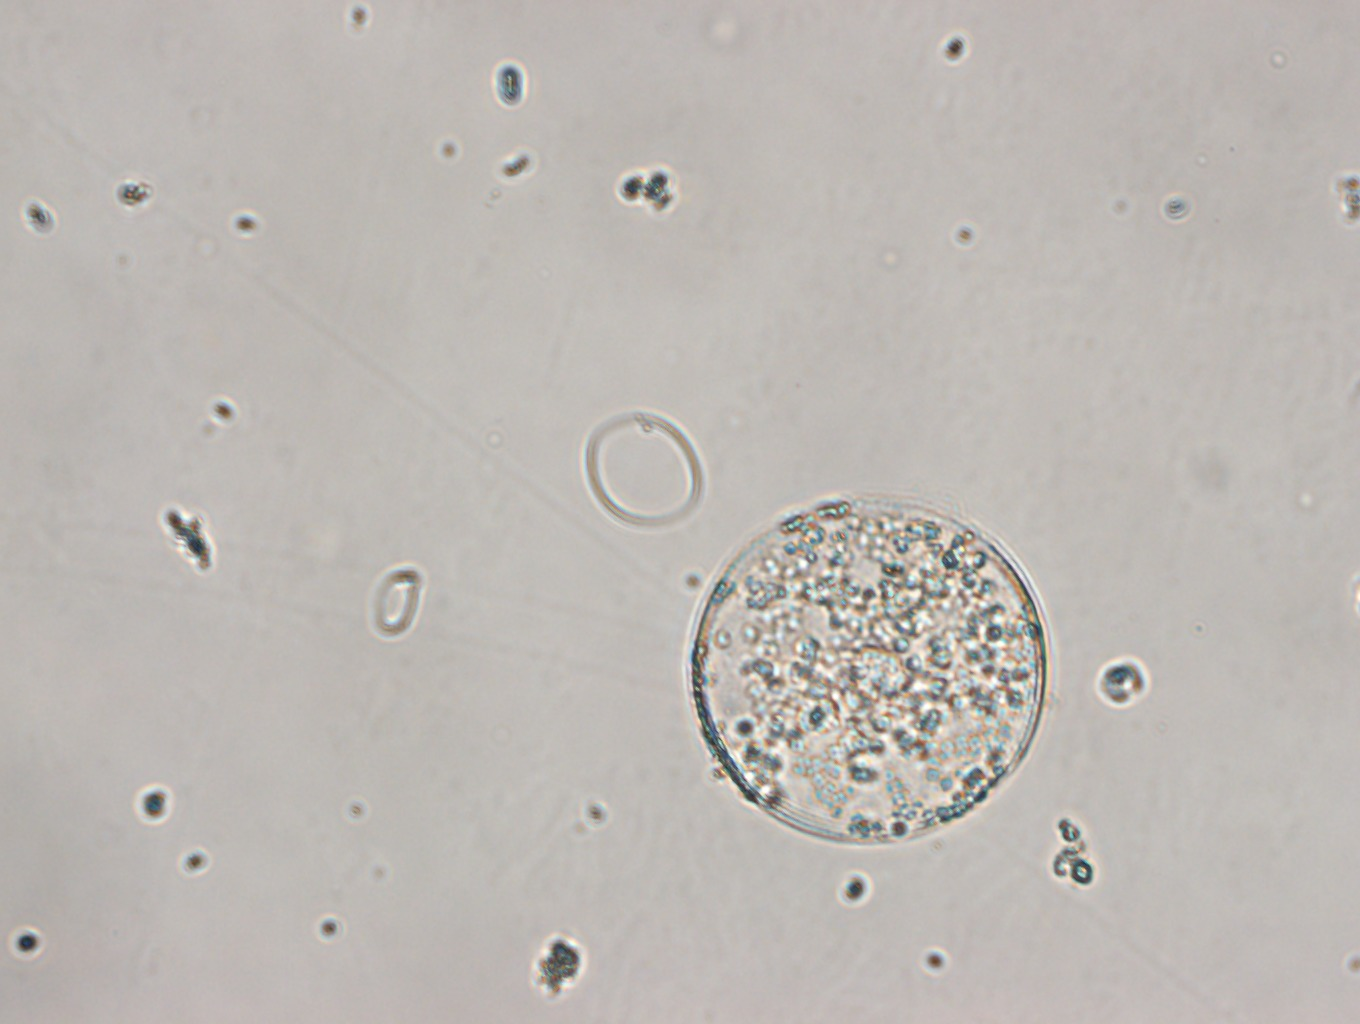coscinodiscus: (679, 503, 1057, 848)
